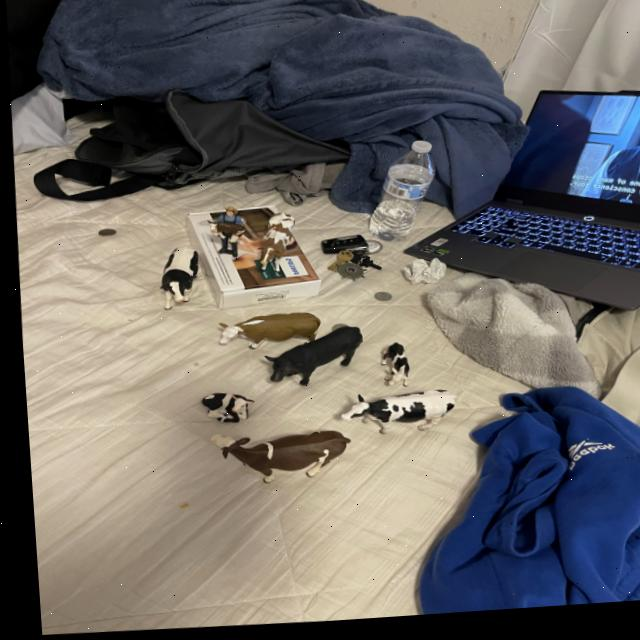cow: (256, 326, 366, 400), (215, 434, 344, 481), (333, 392, 452, 441), (212, 312, 317, 354), (148, 244, 200, 317), (252, 212, 297, 279), (193, 393, 248, 428), (374, 346, 405, 392), (204, 223, 242, 238)
person: (211, 208, 242, 235)
